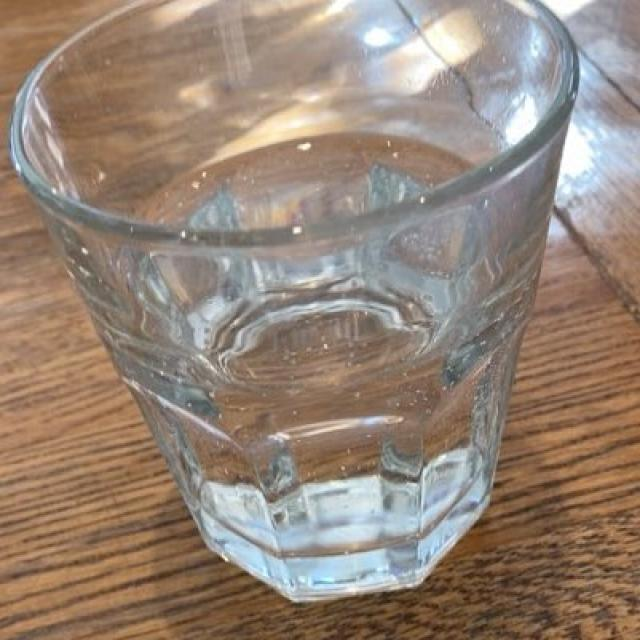water: (105, 132, 540, 567)
